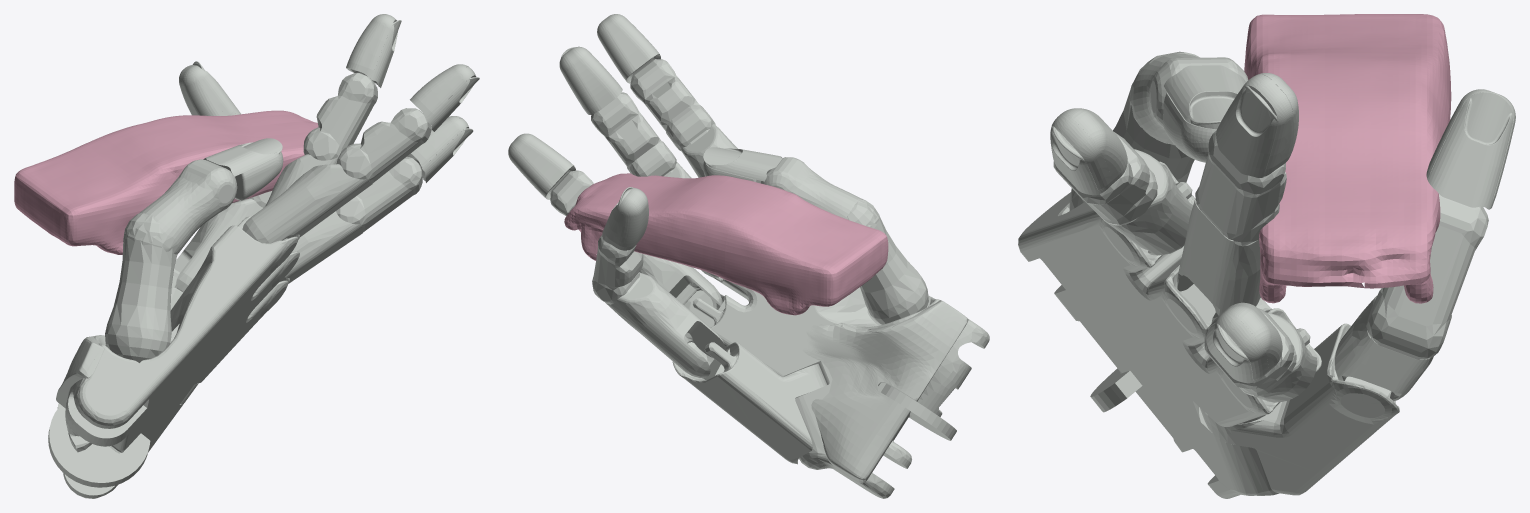
The picture shows the model from 3 angles, left to right: view 1: azimuth 30°, elevation 25°; view 2: azimuth 150°, elevation 25°; view 3: azimuth 270°, elevation 25°; orthographic projection. The views are drawn at different scales.
Visible parts, largest first — view 1: hand, world; view 2: hand, world; view 3: hand, world.
Boxes of the visible parts, box(x1,y1,x2,y2) form: hand: box(48, 14, 479, 498); world: box(14, 110, 318, 254); hand: box(508, 14, 989, 498); world: box(564, 173, 888, 315); hand: box(1018, 51, 1515, 498); world: box(1244, 14, 1451, 303).
Bounding box in the file's own units: 0.1965 × 0.1698 × 0.1161.
